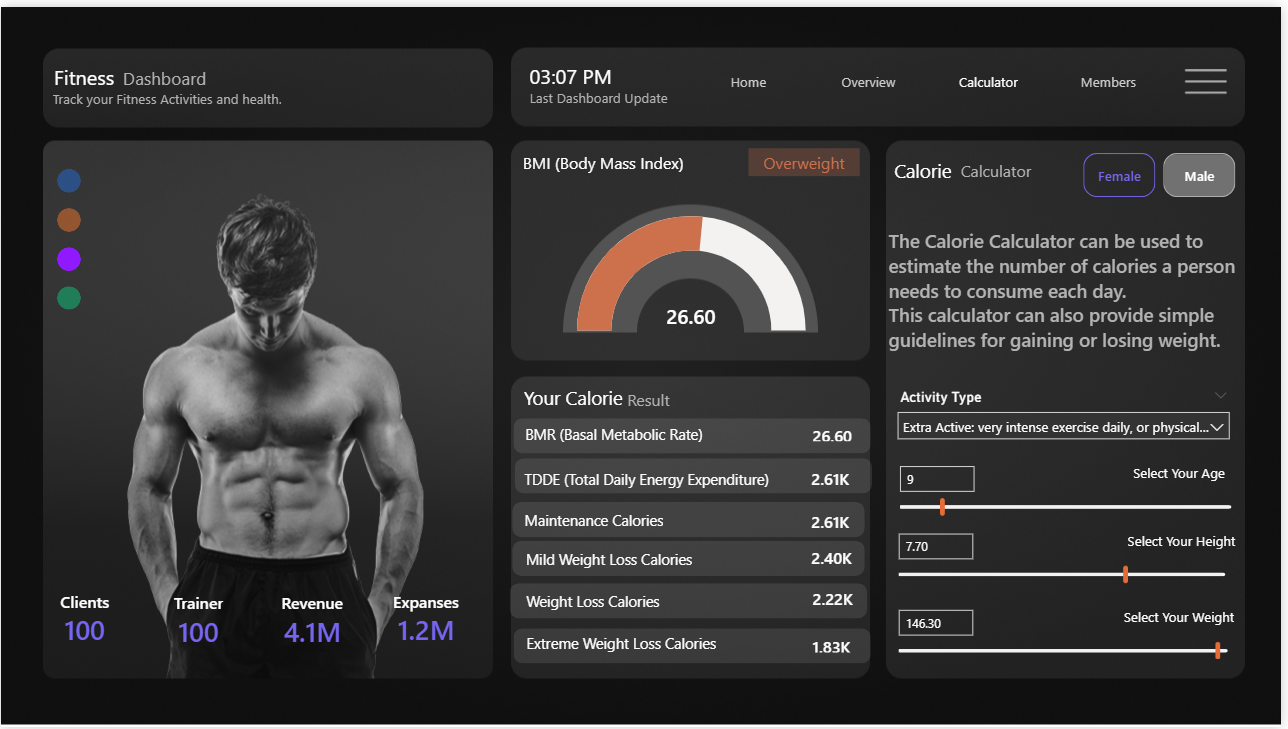

Layout of this report page (visuals, bound fields, positions):
{"tool":"powerbi","page":{"name":"Calculator","canvas":[1280,720],"ordinal":2},"visuals":[{"type":"shape","box":[513.6,451.8,357.3,35.1],"z":0},{"type":"shape","box":[511.6,494.7,352.5,35.1],"z":1000},{"type":"shape","box":[510.6,533.7,352.5,35.1],"z":2000},{"type":"shape","box":[508.7,576.3,357.3,35.1],"z":3000},{"type":"shape","box":[512.3,621.3,357.3,35.1],"z":4000},{"type":"slicer","fields":{"Values":["Height_Slider.Height_Slider"]},"box":[885.4,516,352.5,76.3],"z":5000},{"type":"slicer","fields":{"Values":["Weight_Slider.Weight_Slider"]},"box":[885.4,592.3,354.9,78.7],"z":6000},{"type":"slicer","fields":{"Values":["Age_Slider 3.Age_Slider"]},"box":[886.6,448.1,357.3,67.8],"z":7000},{"type":"slicer","fields":{"Values":["Slider_Activity.Category"]},"box":[886.6,376.7,352.5,71.5],"z":8000},{"type":"advancedSlicerVisual","fields":{"Values":["Slider_Gender.Category"]},"box":[1078,141.7,162.3,54.5],"z":9000},{"type":"shape","box":[43.8,47.5,78.8,43.8],"z":10000},{"type":"shape","box":[107.5,48.8,112.5,43.8],"z":11000},{"type":"shape","box":[883,141.7,78.7,43.6],"z":12000},{"type":"shape","box":[955.6,141.7,77.5,43.6],"z":13000},{"type":"textbox","box":[883,216.8,357.3,142.9],"z":14000},{"type":"gauge","fields":{"Y":["_Measure.BMI"]},"box":[571.7,196.2,238.6,140.5],"z":15000},{"type":"shape","box":[1119.2,448.1,118.7,33.9],"z":16000},{"type":"shape","box":[1121.6,516,118.7,33.9],"z":17000},{"type":"shape","box":[1119.2,592.3,118.7,33.9],"z":18000},{"type":"cardVisual","fields":{"Data":["_Measure.BMI"]},"box":[635.9,278.6,111.4,58.1],"z":19000},{"type":"shape","box":[512.3,141.7,179.3,27.9],"z":20000},{"type":"shape","box":[747.3,141.7,111.4,27.9],"z":21000},{"type":"shape","box":[508.7,413,208.3,27.9],"z":22000},{"type":"cardVisual","fields":{"Data":["_Measure.BMI"]},"box":[782.4,402.1,100.5,49.7],"z":23000},{"type":"shape","box":[508.7,368.2,127.2,43.6],"z":24000},{"type":"shape","box":[609.2,369.4,77.5,43.6],"z":25000},{"type":"shape","box":[512.3,411.8,357.3,35.1],"z":26000},{"type":"shape","box":[508.7,453.5,273.7,36.3],"z":27000},{"type":"cardVisual","fields":{"Data":["_Measure.TDEE"]},"box":[781.2,445.7,100.5,49.7],"z":28000},{"type":"shape","box":[510.4,495.9,165.9,33.9],"z":29000},{"type":"cardVisual","fields":{"Data":["_Measure.Maintain Calores"]},"box":[781.7,486.2,99.3,54.5],"z":30000},{"type":"shape","box":[510.6,538.5,193.8,26.6],"z":31000},{"type":"cardVisual","fields":{"Data":["_Measure.Mild Weight Loss Calories"]},"box":[780.7,525.2,100.5,49.7],"z":32000},{"type":"shape","box":[513.6,579.9,156.2,27.9],"z":33000},{"type":"cardVisual","fields":{"Data":["_Measure.Weight Loss Calories"]},"box":[782.4,566.8,100.5,49.7],"z":34000},{"type":"shape","box":[513.6,619.2,213.2,33.9],"z":35000},{"type":"cardVisual","fields":{"Data":["_Measure.Extreme Weight Loss Calories"]},"box":[782.4,614.3,100.5,49.7],"z":36000},{"type":"shape","box":[35,71.2,262.5,40],"z":37000},{"type":"image","box":[1178.5,48.4,54.5,53.3],"z":38000},{"type":"shape","box":[518.4,46,101.7,44.8],"z":39000},{"type":"shape","box":[507.5,70.3,180.5,40],"z":40000},{"type":"advancedSlicerVisual","fields":{"Values":["ColorCodes.Icon"]},"box":[43.6,153.8,48.4,158.7],"z":41000},{"type":"cardVisual","fields":{"Data":["_Measures.Users_Count"]},"box":[23.5,566.4,120,91],"z":42000},{"type":"cardVisual","fields":{"Data":["CountNonNull(Users.Trainer Name)"]},"box":[137.3,567.9,120,91],"z":43000},{"type":"cardVisual","fields":{"Data":["_Measures.Revenue"]},"box":[251.1,567.9,120,91],"z":44000},{"type":"cardVisual","fields":{"Data":["_Measures.Expanses"]},"box":[364.9,566.4,120,91],"z":45000},{"type":"pageNavigator","box":[692.9,54.3,471.4,42.9],"z":46000}]}

Visuals, with their boxes in screenshot pixels (x1, y1, x2, y2), scaled from the page's 1280x720 canvas onto the 1288x729 screenshot:
shape: Rect(517, 457, 876, 493)
shape: Rect(515, 501, 870, 536)
shape: Rect(514, 540, 868, 576)
shape: Rect(512, 584, 871, 619)
shape: Rect(516, 629, 875, 665)
slicer - Height_Slider.Height_Slider: Rect(891, 522, 1246, 600)
slicer - Weight_Slider.Weight_Slider: Rect(891, 600, 1248, 679)
slicer - Age_Slider 3.Age_Slider: Rect(892, 454, 1252, 522)
slicer - Slider_Activity.Category: Rect(892, 381, 1247, 454)
advancedSlicerVisual - Slider_Gender.Category: Rect(1085, 143, 1248, 199)
shape: Rect(44, 48, 123, 92)
shape: Rect(108, 49, 221, 94)
shape: Rect(889, 143, 968, 188)
shape: Rect(962, 143, 1040, 188)
textbox: Rect(889, 220, 1248, 364)
gauge - _Measure.BMI: Rect(575, 199, 815, 341)
shape: Rect(1126, 454, 1246, 488)
shape: Rect(1129, 522, 1248, 557)
shape: Rect(1126, 600, 1246, 634)
cardVisual - _Measure.BMI: Rect(640, 282, 752, 341)
shape: Rect(516, 143, 696, 172)
shape: Rect(752, 143, 864, 172)
shape: Rect(512, 418, 721, 446)
cardVisual - _Measure.BMI: Rect(787, 407, 888, 457)
shape: Rect(512, 373, 640, 417)
shape: Rect(613, 374, 691, 418)
shape: Rect(516, 417, 875, 452)
shape: Rect(512, 459, 787, 496)
cardVisual - _Measure.TDEE: Rect(786, 451, 887, 502)
shape: Rect(514, 502, 681, 536)
cardVisual - _Measure.Maintain Calores: Rect(787, 492, 887, 547)
shape: Rect(514, 545, 709, 572)
cardVisual - _Measure.Mild Weight Loss Calories: Rect(786, 532, 887, 582)
shape: Rect(517, 587, 674, 615)
cardVisual - _Measure.Weight Loss Calories: Rect(787, 574, 888, 624)
shape: Rect(517, 627, 731, 661)
cardVisual - _Measure.Extreme Weight Loss Calories: Rect(787, 622, 888, 672)
shape: Rect(35, 72, 299, 113)
image: Rect(1186, 49, 1241, 103)
shape: Rect(522, 47, 624, 92)
shape: Rect(511, 71, 692, 112)
advancedSlicerVisual - ColorCodes.Icon: Rect(44, 156, 93, 316)
cardVisual - _Measures.Users_Count: Rect(24, 573, 144, 666)
cardVisual - CountNonNull(Users.Trainer Name): Rect(138, 575, 259, 667)
cardVisual - _Measures.Revenue: Rect(253, 575, 373, 667)
cardVisual - _Measures.Expanses: Rect(367, 573, 488, 666)
pageNavigator: Rect(697, 55, 1172, 98)
